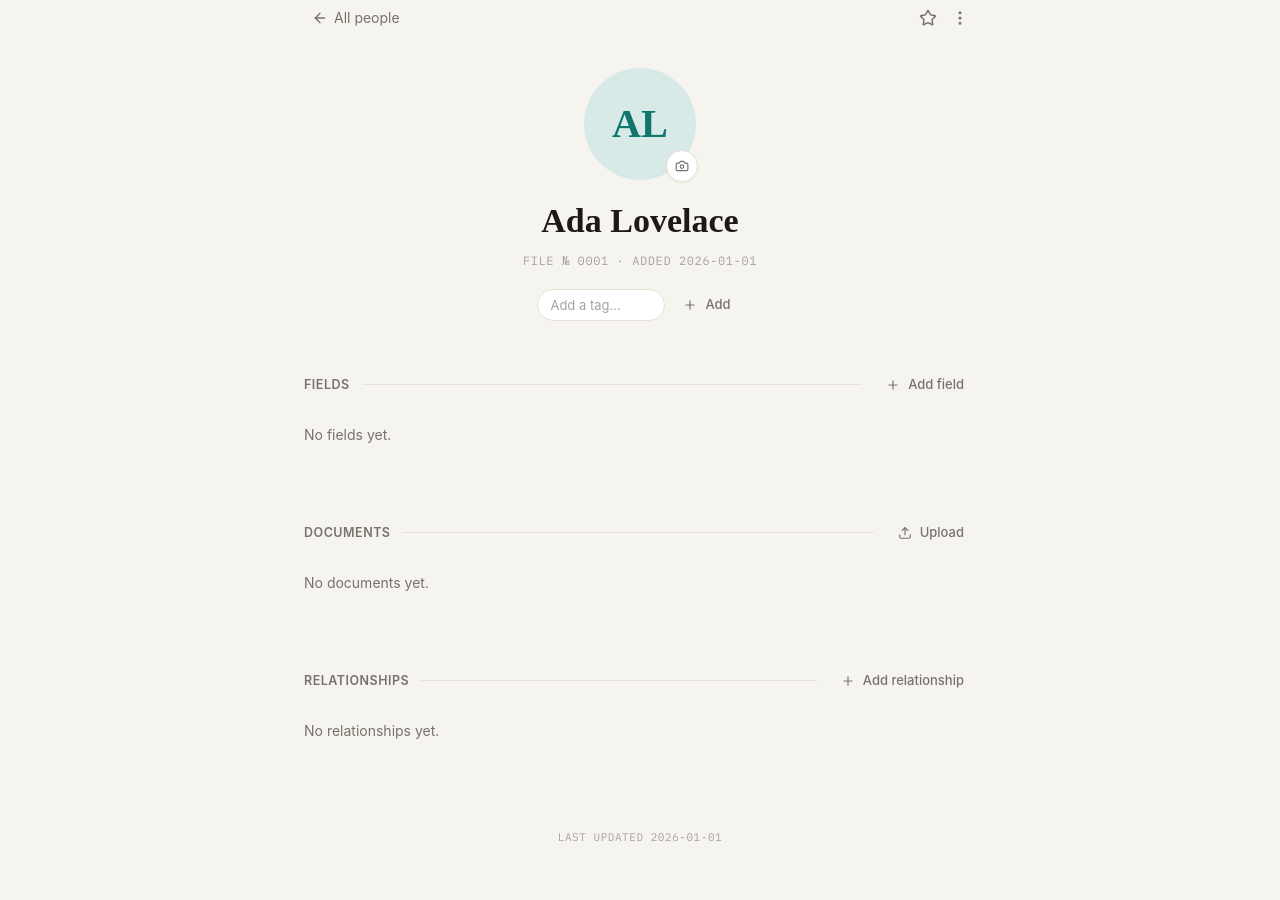
Test case: PersonPage — letterhead chrome › tucks rename, export and delete behind a "More actions" menu
Check: the heading "Ada Lovelace" is shown, box [541, 200, 739, 242]
Check: the link "Export vCard" is not shown
Click the button named "More actions".
click(960, 18)  # box [944, 2, 976, 34]
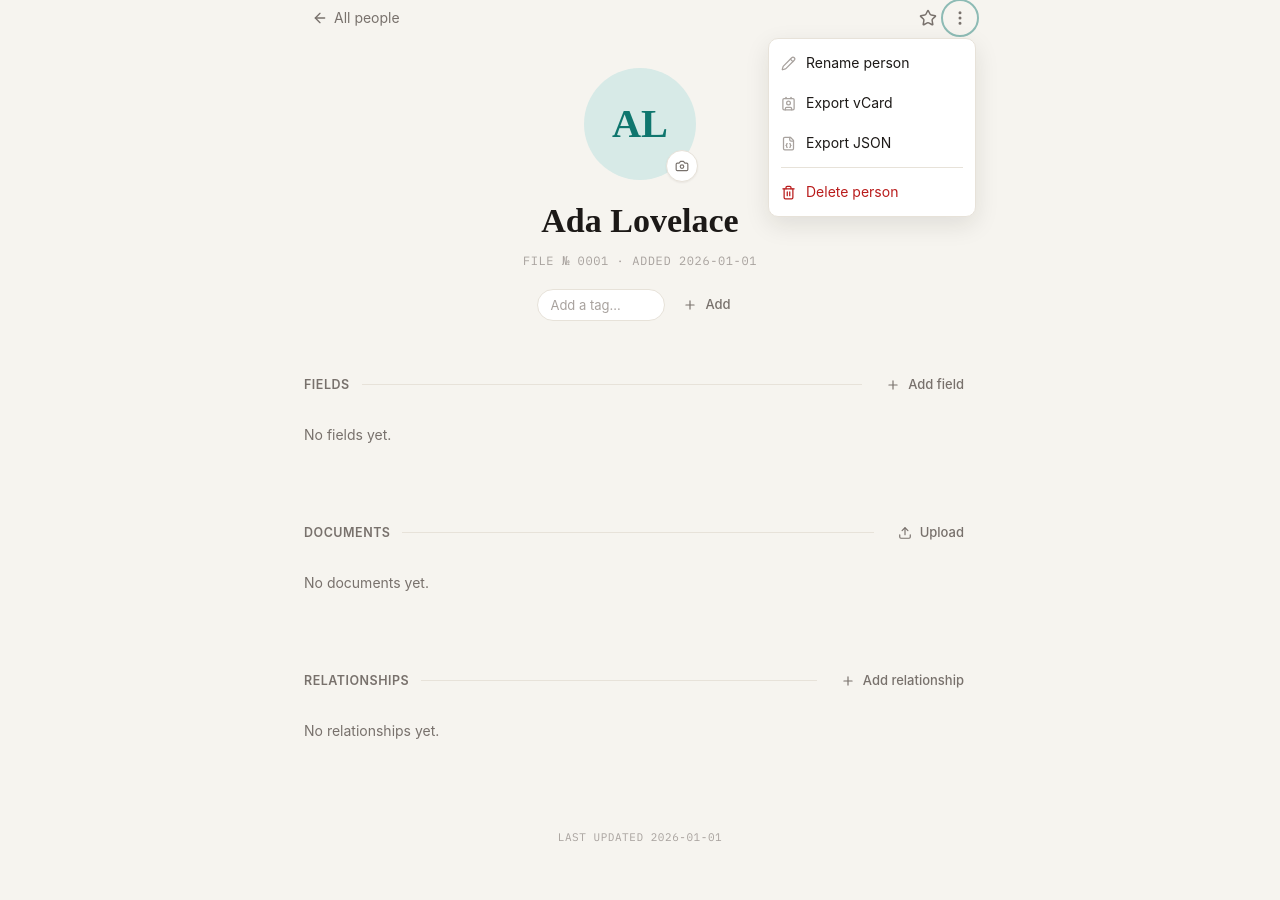
Check: the menu item "Rename person" is shown, box [769, 43, 975, 83]
Click the menu item "Delete person".
click(872, 192)  # box [769, 172, 975, 212]
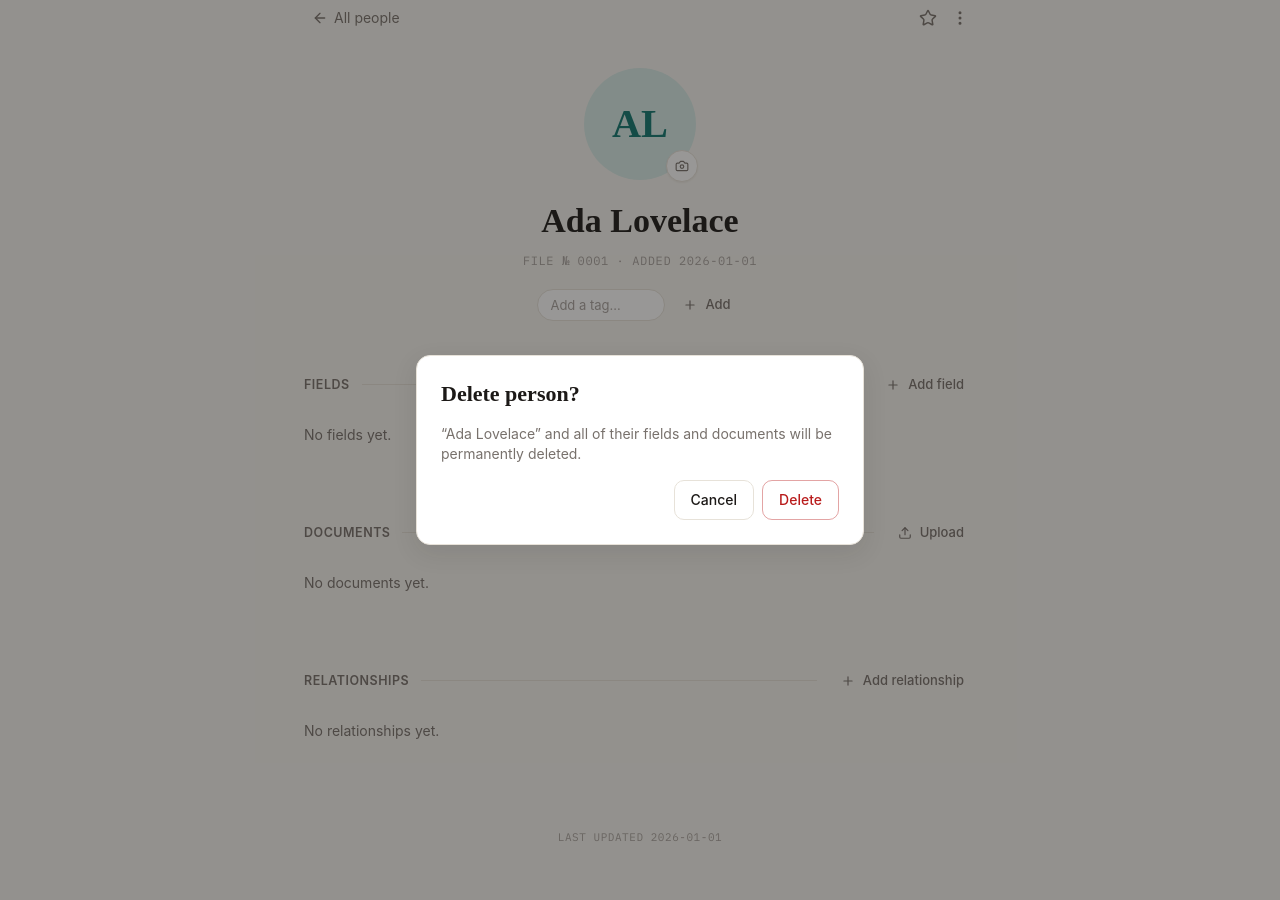
Check: the dialog "Delete person?" is shown, box [416, 355, 864, 545]
